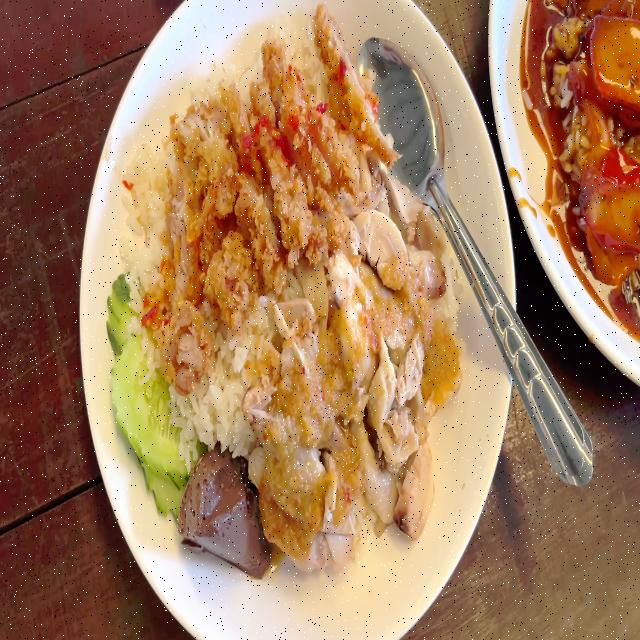boiled_chicken: (250, 187, 449, 561)
boiled_chicken_blood_jelly: (179, 451, 273, 571)
chicken_rice: (106, 6, 462, 574)
cucumber: (104, 268, 194, 516)
fried_chicken: (148, 5, 392, 375)
red_pork: (586, 146, 640, 282), (589, 17, 640, 109)
red_pork_and_crispy_pork: (538, 0, 640, 330)
